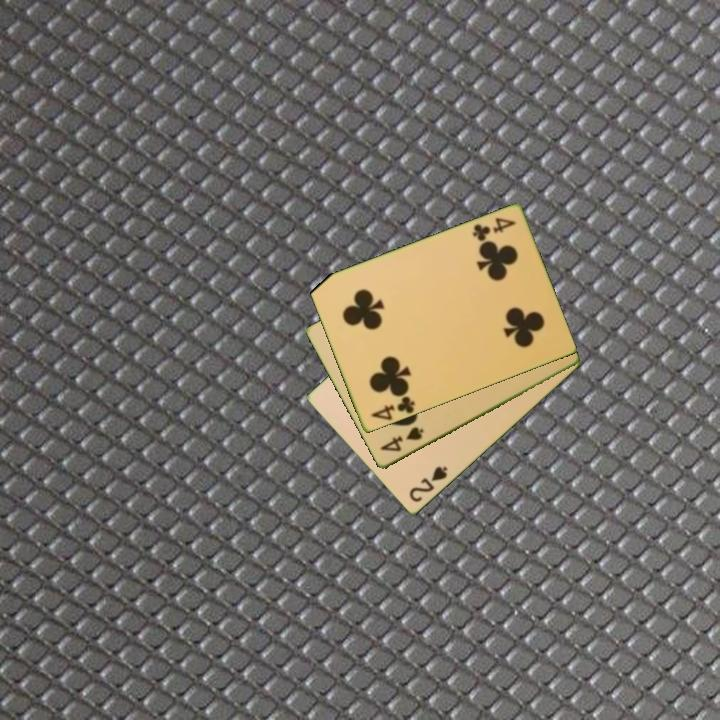2s: (406, 463, 451, 506)
4c: (367, 393, 418, 423), (469, 214, 518, 244)
4s: (376, 424, 426, 455)
